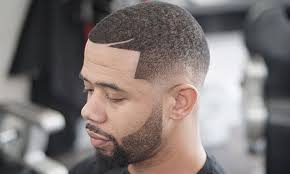black_male: (79, 4, 200, 174)
